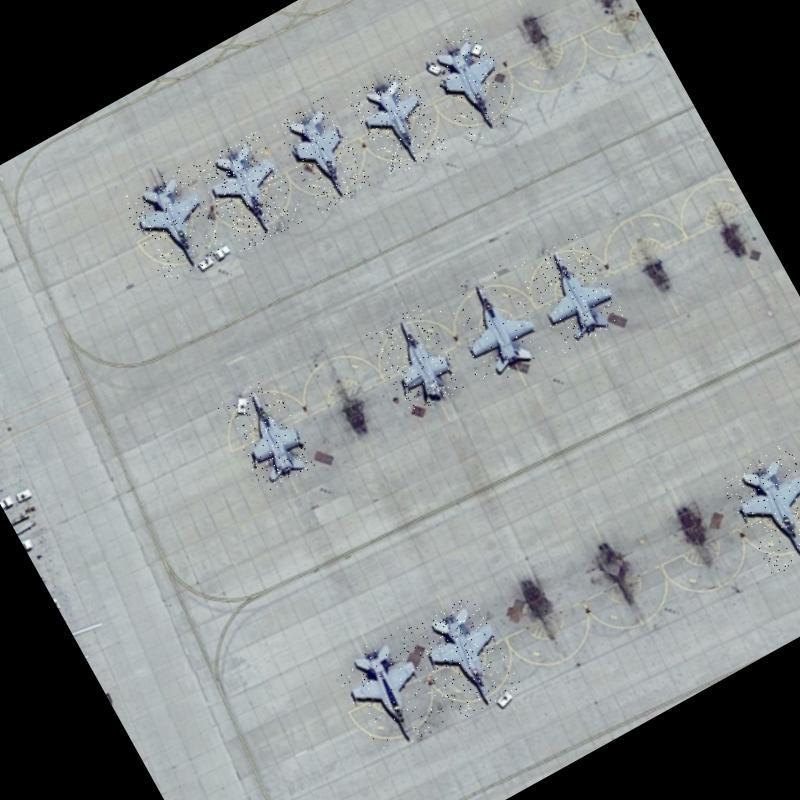A16: (330, 626, 450, 758), (405, 592, 525, 723), (433, 262, 553, 390), (192, 128, 307, 254), (514, 230, 628, 354), (118, 164, 230, 286), (418, 23, 524, 145), (344, 64, 448, 179), (216, 376, 318, 493), (364, 302, 467, 417), (272, 96, 372, 213), (717, 441, 800, 578)
